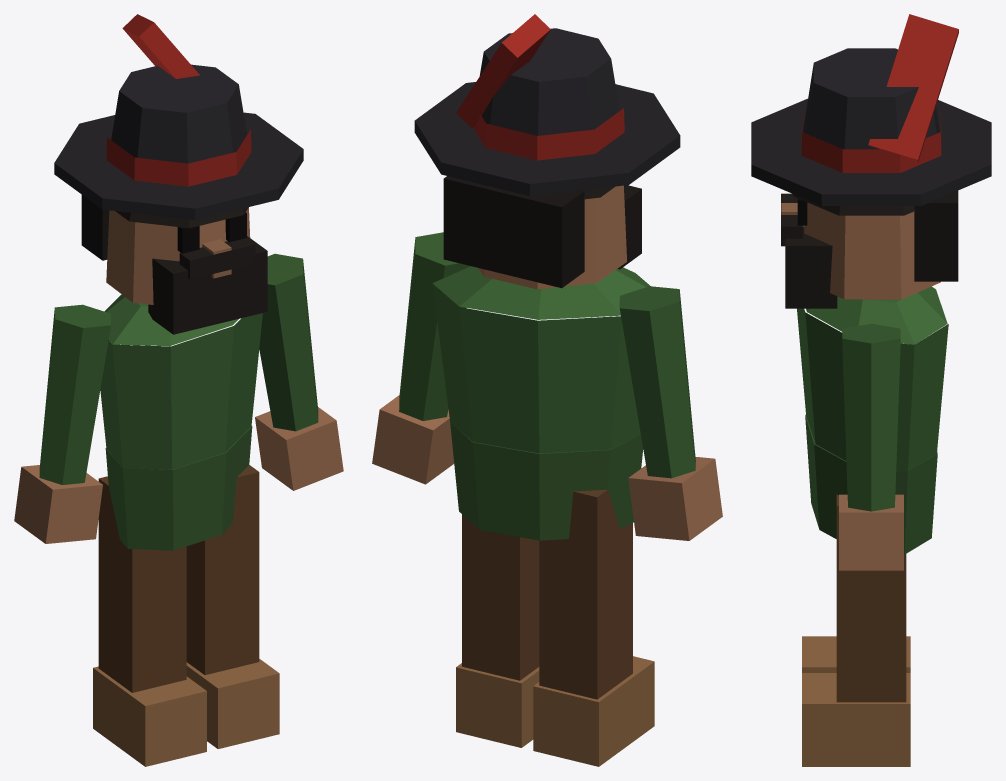
Rendered from patron.glb.
3 renders of one model, left to right at view 1: azimuth 30°, elevation 25°; view 2: azimuth 150°, elevation 25°; view 3: azimuth 270°, elevation 25°, orthographic. The views are drawn at different scales.
Parts seen in each view (by area): view 1: patron_head, patron_torso, patron_leg_r, patron_leg_l, patron_arm_r, patron_arm_l; view 2: patron_head, patron_torso, patron_leg_r, patron_leg_l, patron_arm_r, patron_arm_l; view 3: patron_head, patron_torso, patron_leg_l, patron_arm_l, patron_leg_r.
Boxes of the visible parts, x1=… form: patron_head: x1=54, y1=14, x2=303, y2=334; patron_torso: x1=100, y1=294, x2=262, y2=550; patron_leg_r: x1=93, y1=476, x2=206, y2=766; patron_leg_l: x1=186, y1=465, x2=279, y2=748; patron_arm_r: x1=14, y1=304, x2=110, y2=543; patron_arm_l: x1=255, y1=253, x2=343, y2=490; patron_head: x1=414, y1=14, x2=680, y2=289; patron_torso: x1=432, y1=266, x2=650, y2=540; patron_leg_r: x1=533, y1=489, x2=654, y2=766; patron_leg_l: x1=456, y1=514, x2=539, y2=747; patron_arm_r: x1=619, y1=286, x2=722, y2=540; patron_arm_l: x1=372, y1=232, x2=469, y2=484; patron_head: x1=751, y1=14, x2=991, y2=308; patron_torso: x1=797, y1=286, x2=948, y2=554; patron_leg_l: x1=802, y1=494, x2=910, y2=766; patron_arm_l: x1=839, y1=323, x2=903, y2=570; patron_leg_r: x1=802, y1=636, x2=910, y2=672.
Bounding box in the file's own units: 0.821 × 1.82 × 0.5543.
